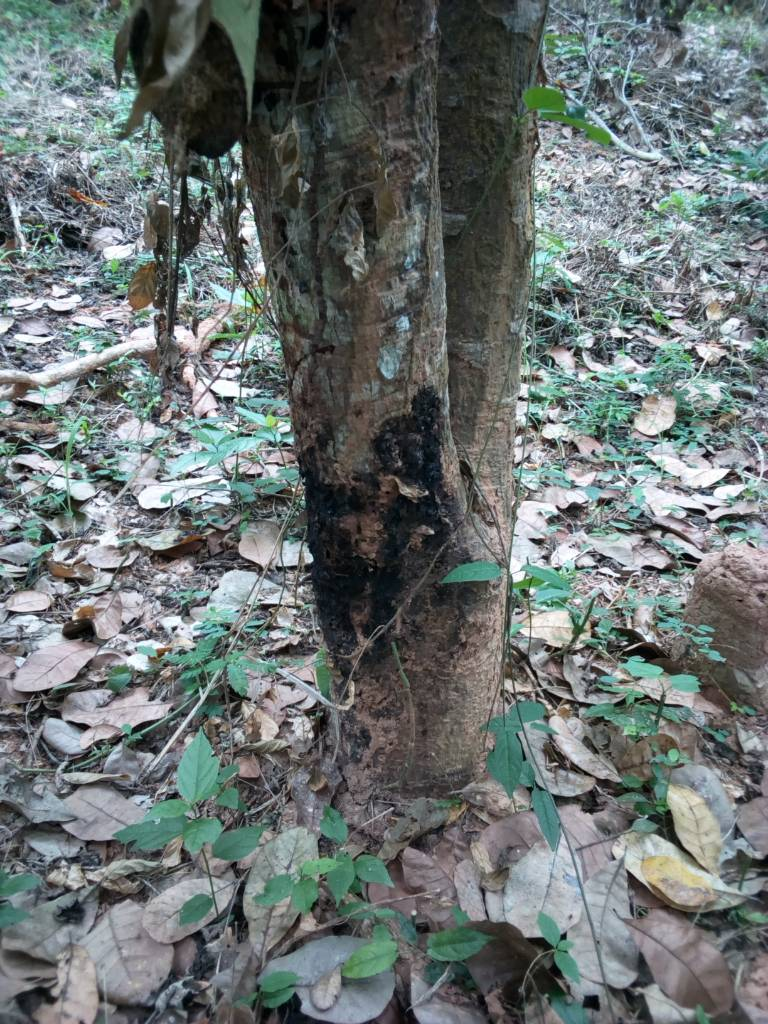Termites: (704, 544, 768, 649)
